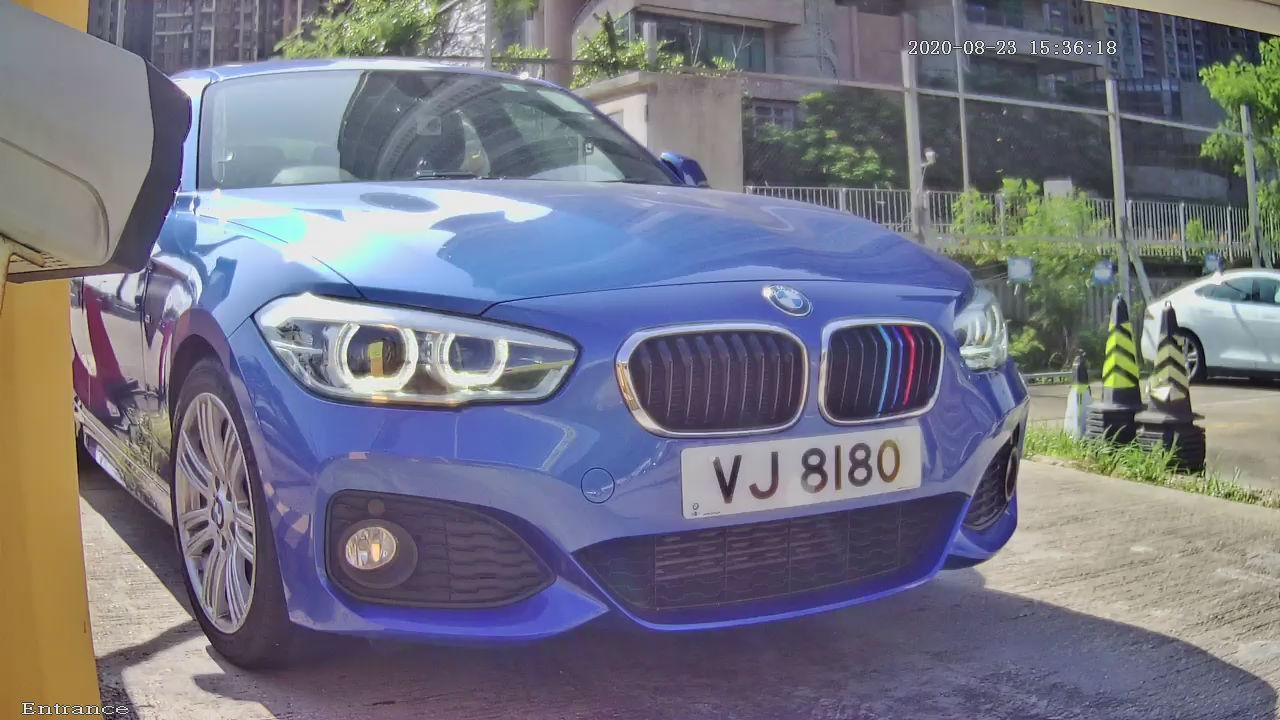Car: (29, 10, 1115, 720)
License Plate: (649, 378, 982, 549)
